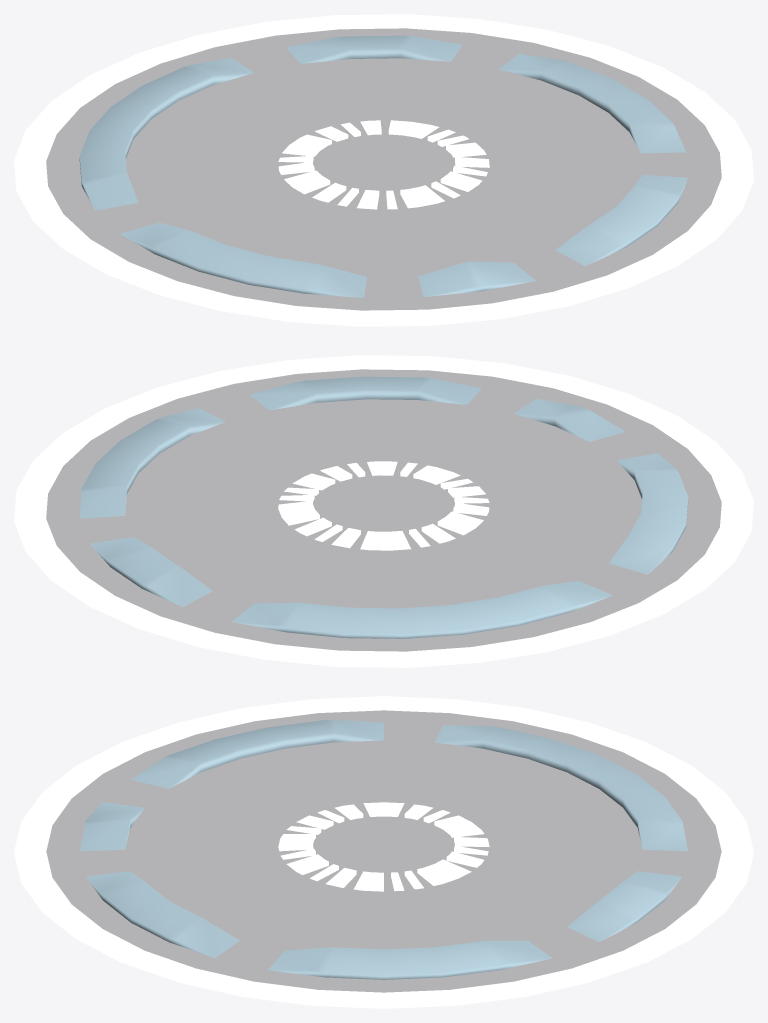
File: shield.fbx
3 renders of one model, top to bottom at view 1: azimuth 30°, elevation 25°; view 2: azimuth 150°, elevation 25°; view 3: azimuth 270°, elevation 25°, orthographic.
Parts seen in each view (by area): view 1: Sphere, inner ring, outer ring, innaermost, outerinner; view 2: Sphere, inner ring, outer ring, innaermost, outerinner; view 3: Sphere, inner ring, outer ring, innaermost, outerinner.
Part boxes in pixels (box(x1,y1,x2,y2)): Sphere: box(46, 28, 721, 310); inner ring: box(79, 35, 687, 297); outer ring: box(14, 14, 753, 326); innaermost: box(278, 120, 489, 209); outerinner: box(42, 21, 725, 310); Sphere: box(46, 369, 721, 651); inner ring: box(79, 376, 688, 638); outer ring: box(14, 355, 753, 667); innaermost: box(278, 461, 489, 550); outerinner: box(42, 362, 725, 651); Sphere: box(46, 710, 721, 992); inner ring: box(80, 719, 687, 979); outer ring: box(14, 696, 753, 1008); innaermost: box(278, 802, 489, 891); outerinner: box(42, 703, 725, 992).
Size of the model in its own units: 303 by 6.27 by 303.
